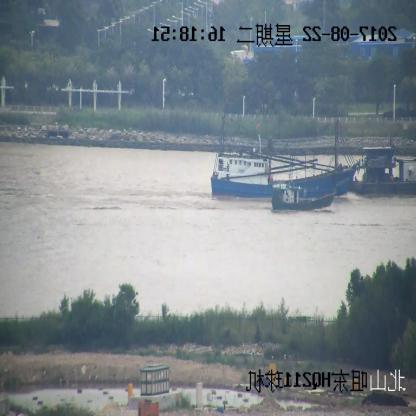Bulk Carrier: (350, 146, 416, 196)
